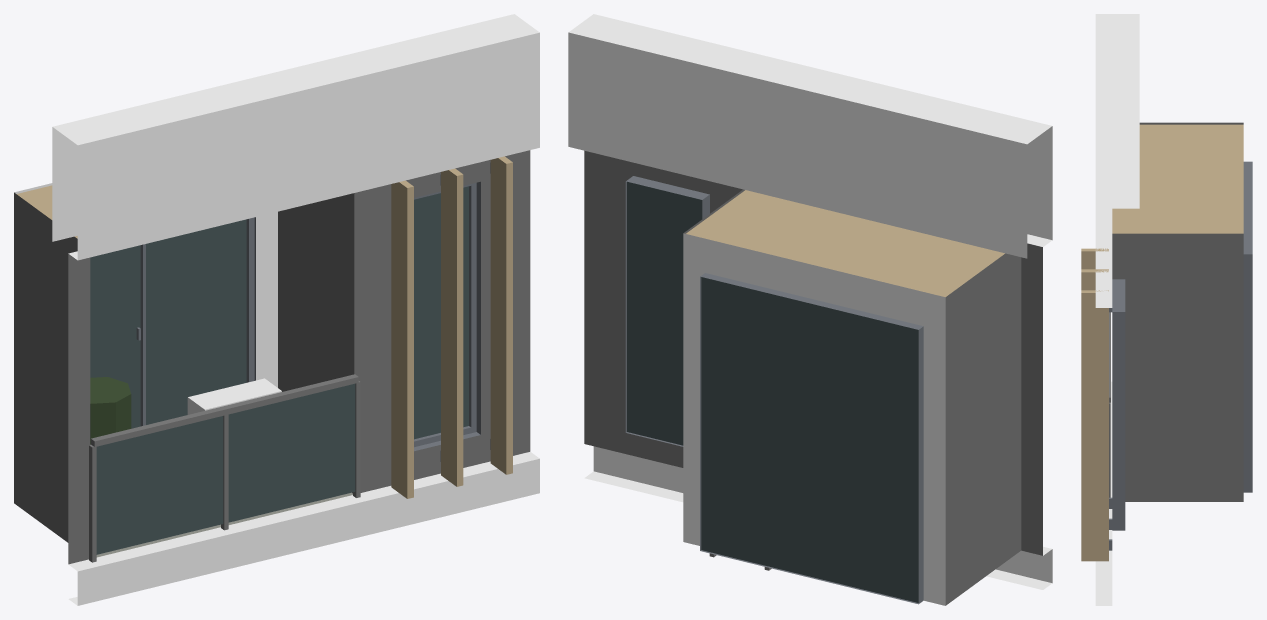
File: top-w1_close.fbx
3 views of the same model, side by side, from view 1: azimuth 30°, elevation 25°; view 2: azimuth 150°, elevation 25°; view 3: azimuth 270°, elevation 25° (orthographic). The views are drawn at different scales.
Parts seen in each view (by area): view 1: a2006/750/top-w1_close; view 2: a2006/750/top-w1_close; view 3: a2006/750/top-w1_close.
Part boxes in pixels (bbox=[...]): a2006/750/top-w1_close: bbox=[14, 14, 539, 605]; a2006/750/top-w1_close: bbox=[568, 14, 1052, 605]; a2006/750/top-w1_close: bbox=[1081, 14, 1252, 605].
Size of the model in its own units: 4.2 by 4 by 1.56.
